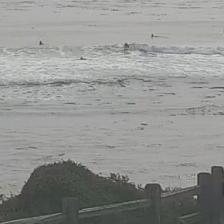surfer: (79, 56, 87, 60), (151, 34, 159, 38), (124, 42, 129, 48), (40, 41, 44, 46)
